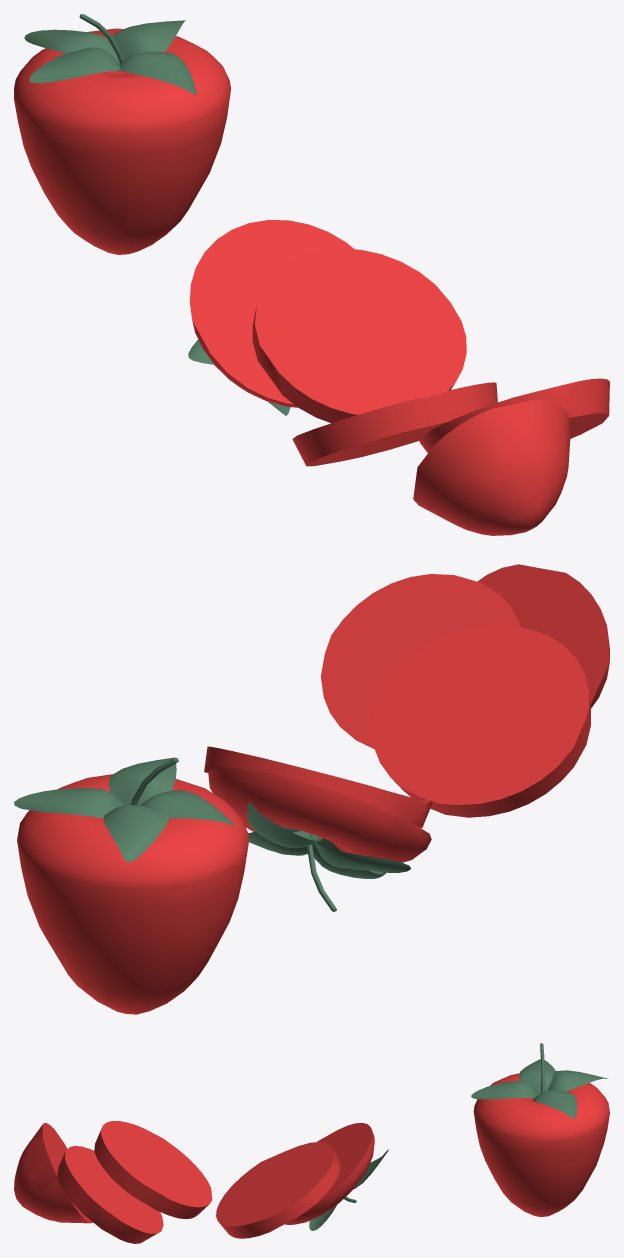
Rendered from strawberries.glb.
3 renders of one model, top to bottom at view 1: azimuth 30°, elevation 25°; view 2: azimuth 150°, elevation 25°; view 3: azimuth 270°, elevation 25°, orthographic. The views are drawn at different scales.
Visible parts, largest first — view 1: Sphere.005, Sphere.004, Sphere.001, Sphere, Circle.001, Sphere.003, Sphere.002; view 2: Sphere.005, Sphere.003, Sphere.002, Sphere, Circle.001, Sphere.001, Circle, Sphere.004; view 3: Sphere.005, Sphere.004, Sphere.003, Sphere.002, Sphere.001, Circle.001, Sphere, Circle.
Boxes of the visible parts, left/top/right/bottom form: Sphere.005: left=14, top=28, right=230, bottom=254; Sphere.004: left=252, top=248, right=466, bottom=423; Sphere.001: left=413, top=400, right=570, bottom=535; Sphere: left=189, top=220, right=354, bottom=407; Circle.001: left=24, top=14, right=196, bottom=94; Sphere.003: left=292, top=382, right=497, bottom=466; Sphere.002: left=419, top=378, right=609, bottom=452; Sphere.005: left=17, top=774, right=248, bottom=1014; Sphere.003: left=371, top=624, right=590, bottom=817; Sphere.002: left=320, top=574, right=520, bottom=748; Sphere: left=208, top=767, right=431, bottom=862; Circle.001: left=14, top=757, right=235, bottom=862; Sphere.001: left=477, top=564, right=609, bottom=708; Circle: left=247, top=802, right=410, bottom=911; Sphere.004: left=204, top=746, right=432, bottom=828; Sphere.005: left=473, top=1073, right=609, bottom=1216; Sphere.004: left=216, top=1142, right=340, bottom=1238; Sphere.003: left=94, top=1121, right=212, bottom=1218; Sphere.002: left=57, top=1146, right=163, bottom=1243; Sphere.001: left=14, top=1123, right=92, bottom=1223; Circle.001: left=471, top=1043, right=607, bottom=1118; Sphere: left=285, top=1122, right=374, bottom=1224; Circle: left=309, top=1149, right=388, bottom=1230.
Size of the model in its own units: 1.09 by 0.9844 by 3.27.
Materials: 4 (4 with a texture image).
